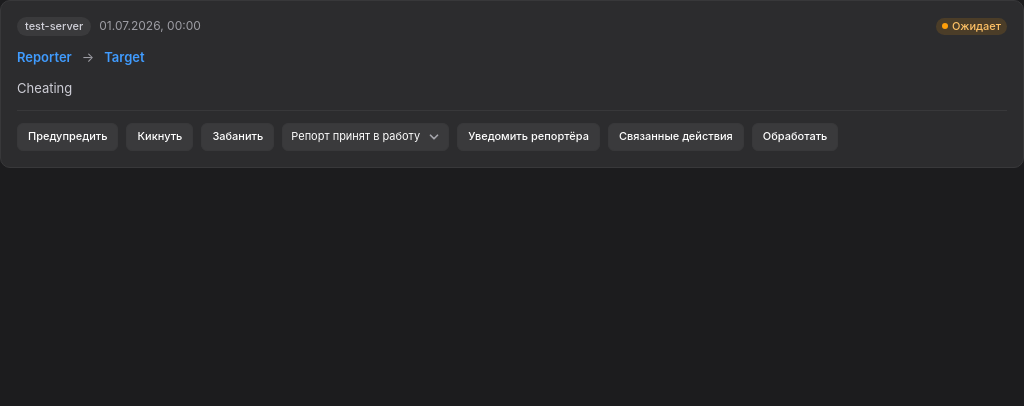
Test case: ReportCard › closes the editor without a request when nothing changed
The image size is (1024, 406).
Click the button "Обработать".
click(795, 136)  # box x1=752 y1=122 x2=838 y2=150
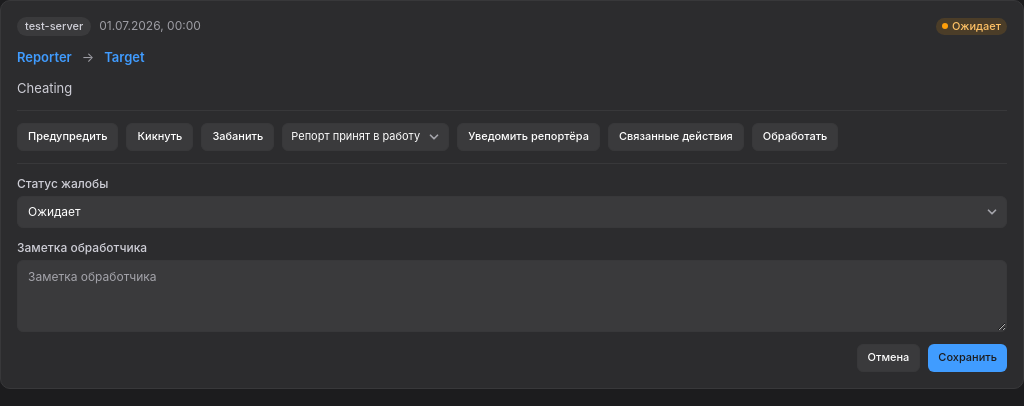
Click the button "Сохранить".
click(968, 358)  # box x1=928 y1=344 x2=1007 y2=372
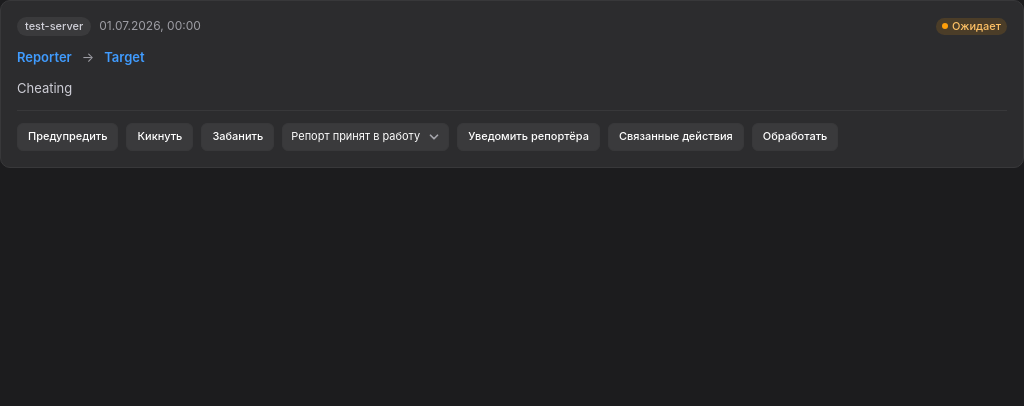
Check: the label labelled "Статус жалобы" is gone
